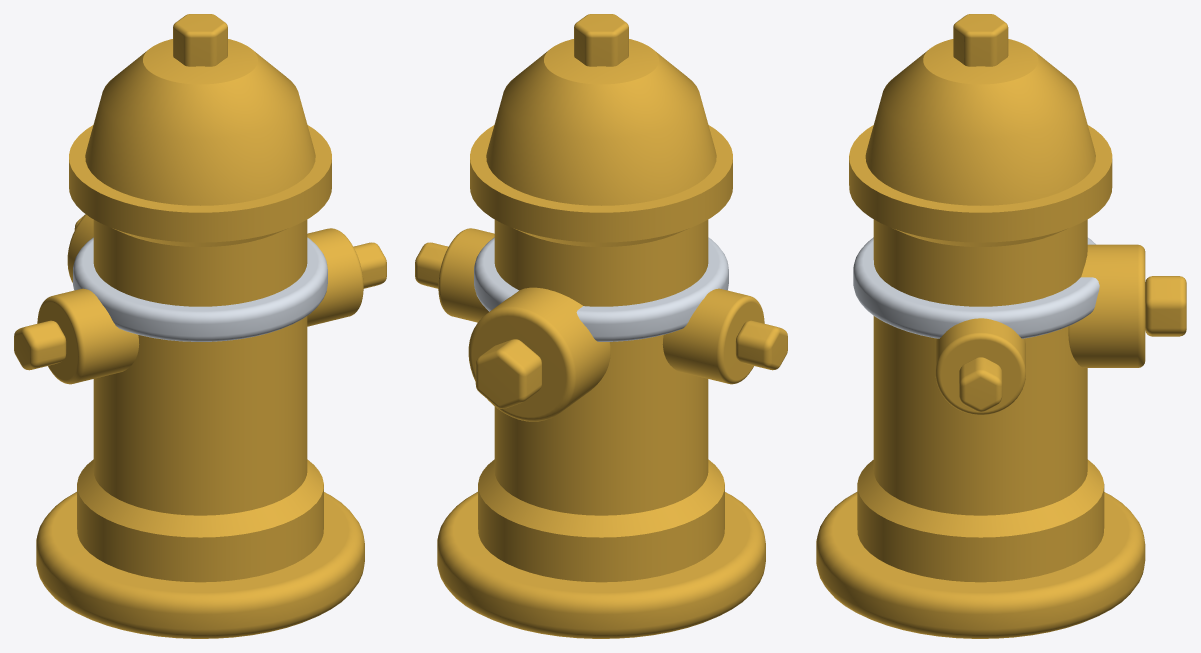
File: gold_hydrant.glb
3 views of the same model, side by side, from view 1: azimuth 30°, elevation 25°; view 2: azimuth 150°, elevation 25°; view 3: azimuth 270°, elevation 25° (orthographic).
Visible parts, largest first — view 1: gold_hydrant; view 2: gold_hydrant; view 3: gold_hydrant.
Part boxes in pixels (x1,y1,x2,y2): gold_hydrant: (14,14,386,638); gold_hydrant: (415,14,787,638); gold_hydrant: (816,14,1186,638).
Size of the model in its own units: 0.5 by 0.74 by 0.4496.
1 material, 1 textured.
